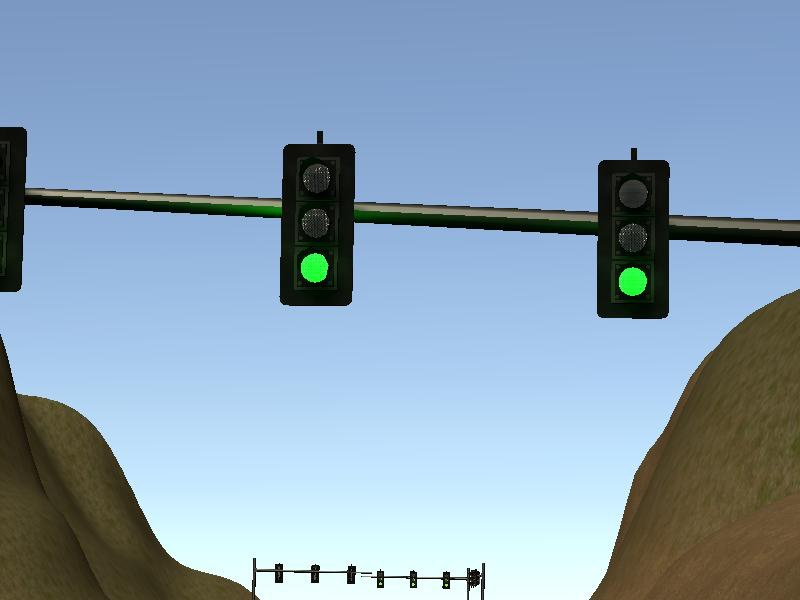Green: (276, 142, 354, 308), (594, 156, 672, 322), (375, 568, 386, 590), (408, 568, 418, 590), (441, 568, 451, 590)
